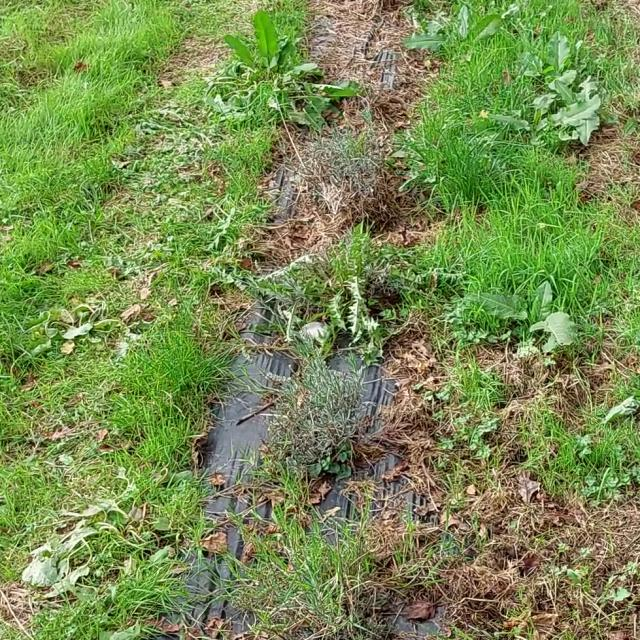organic waste: (198, 8, 337, 138), (27, 463, 163, 589), (466, 257, 591, 362), (415, 2, 529, 86), (27, 289, 136, 369), (512, 79, 614, 146), (526, 25, 606, 96), (591, 375, 640, 460)
